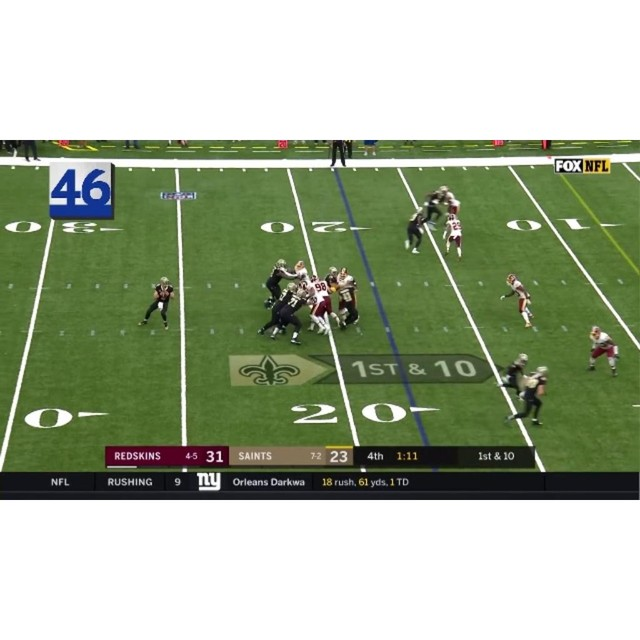american-football-player: (504, 367, 549, 427), (257, 282, 298, 336), (499, 273, 534, 329), (137, 278, 174, 330), (586, 326, 619, 377), (263, 259, 296, 309), (497, 352, 529, 398), (338, 278, 360, 329), (404, 208, 428, 254), (443, 213, 463, 261), (423, 186, 447, 225), (443, 186, 461, 219)
